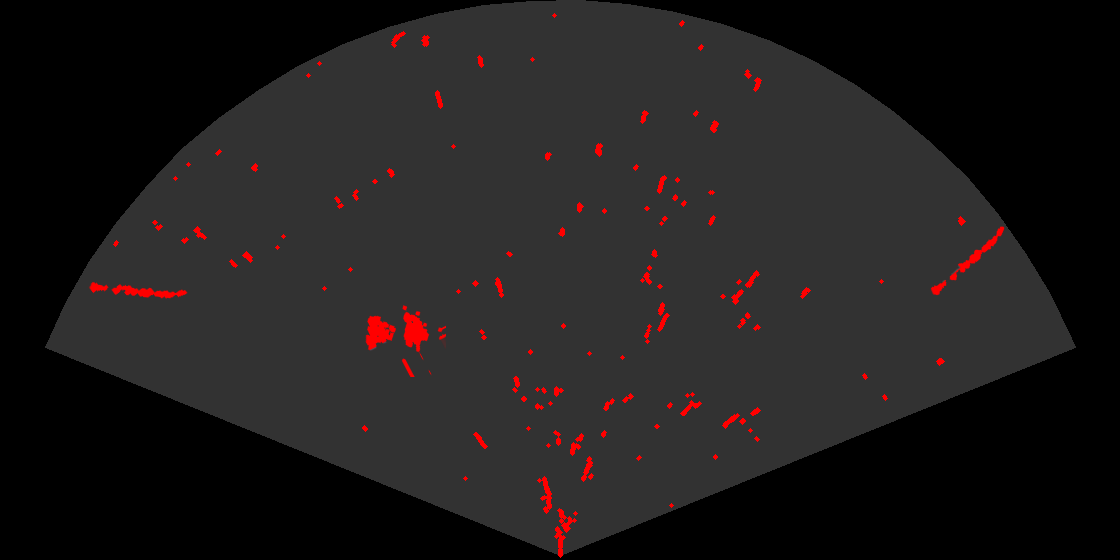cage: (364, 304, 446, 377)
chain: (929, 225, 1006, 297), (87, 281, 189, 300)
